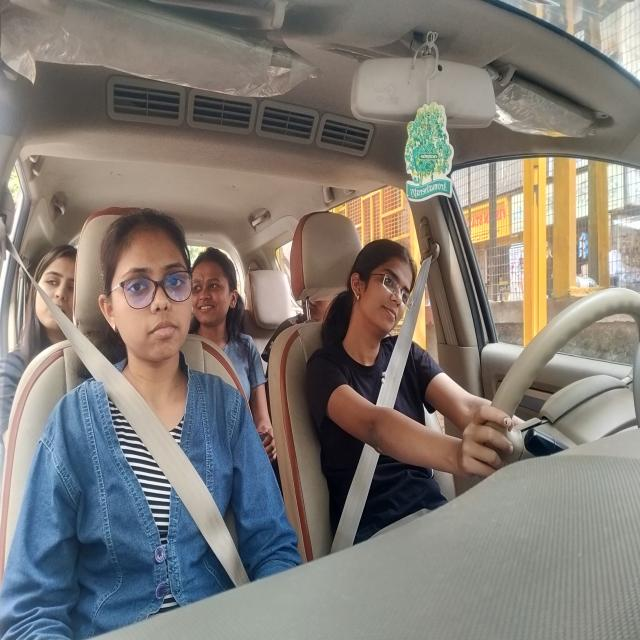person: (98, 208, 194, 364), (345, 239, 418, 338), (192, 243, 242, 339), (34, 238, 78, 335)
